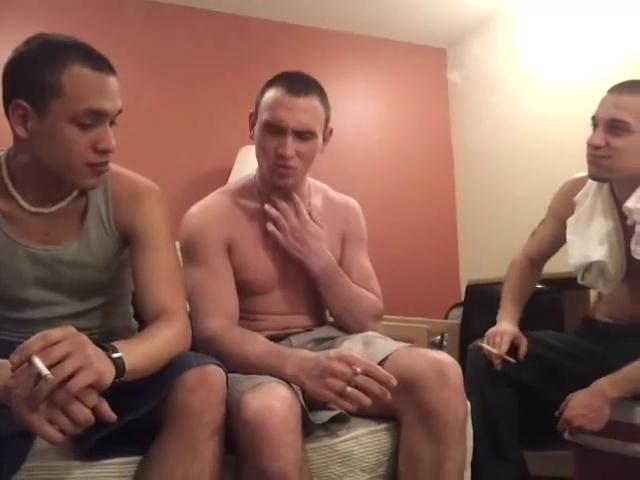cigarette: (479, 342, 519, 365), (30, 354, 58, 384)
